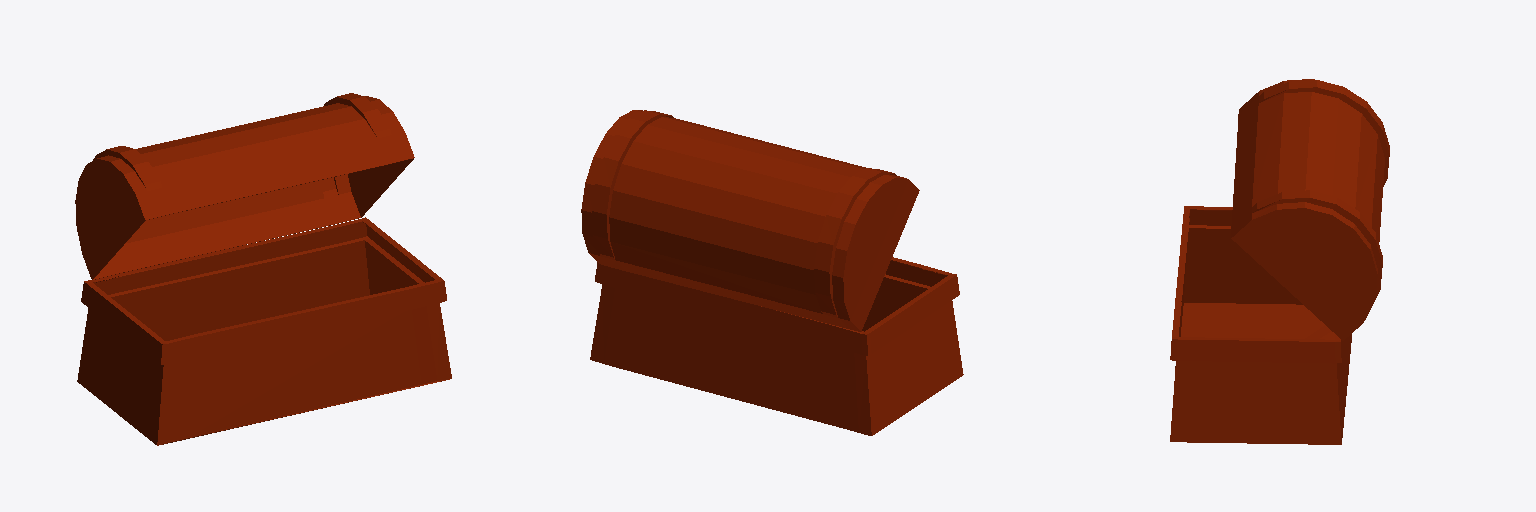
File: cofre.obj
The picture shows the model from 3 angles: view 1: azimuth 30°, elevation 25°; view 2: azimuth 150°, elevation 25°; view 3: azimuth 270°, elevation 25°; orthographic projection.
Visible parts, largest first — view 1: Cylinder003; view 2: Cylinder003; view 3: Cylinder003.
Part boxes in pixels (bbox=[...]): Cylinder003: bbox=[75, 93, 451, 445]; Cylinder003: bbox=[581, 110, 963, 435]; Cylinder003: bbox=[1170, 79, 1389, 444].
Bounding box in the file's own units: 1.13 × 0.8715 × 0.7324.